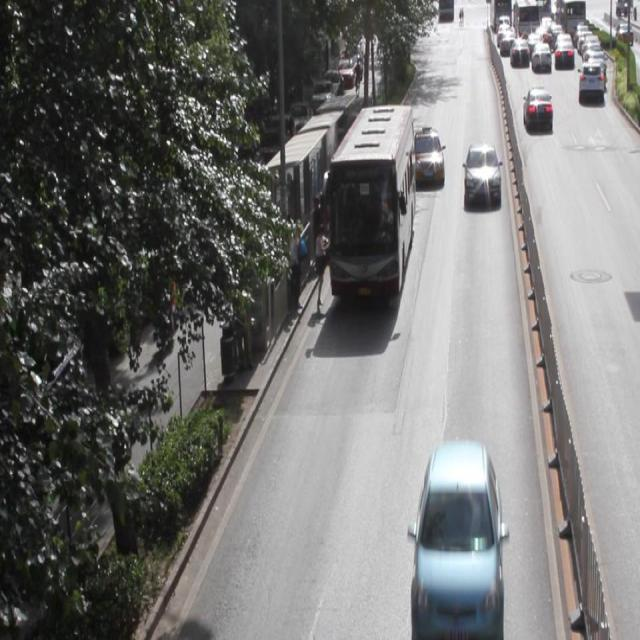car: (413, 439, 501, 632), (464, 144, 499, 202), (411, 128, 443, 183), (523, 88, 552, 127)
van: (328, 106, 413, 298)
